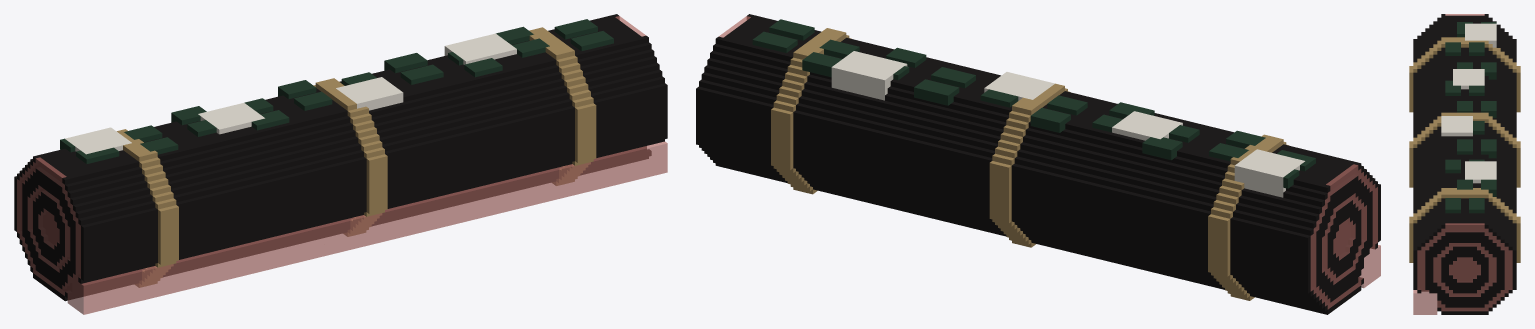
The model's file is black_dragon_tanning_hide.glb.
3 renders of one model, left to right at view 1: azimuth 30°, elevation 25°; view 2: azimuth 150°, elevation 25°; view 3: azimuth 270°, elevation 25°, orthographic. The views are drawn at different scales.
Parts seen in each view (by area): view 1: black_dragon_tanning_hide:compound; view 2: black_dragon_tanning_hide:compound; view 3: black_dragon_tanning_hide:compound.
Part boxes in pixels (x1,y1,x2,y2): black_dragon_tanning_hide:compound: (14,14,667,314); black_dragon_tanning_hide:compound: (696,14,1380,314); black_dragon_tanning_hide:compound: (1409,14,1520,314).
Bounding box in the file's own units: 0.504 × 0.108 × 0.112.
